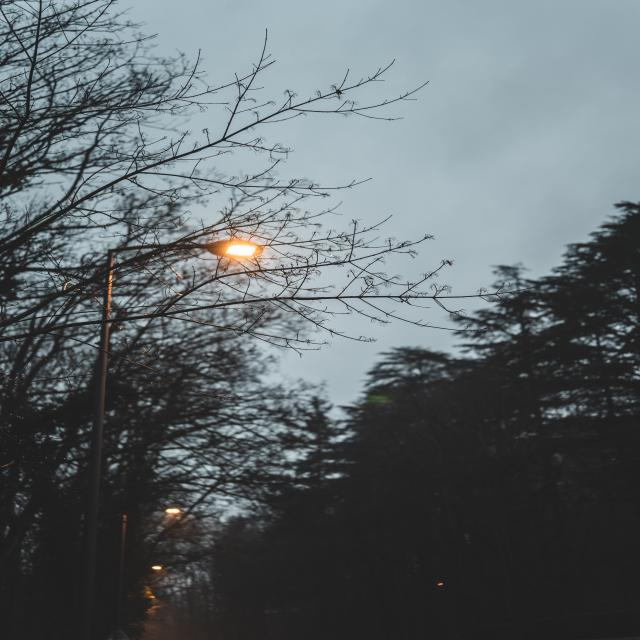Street Light: (102, 240, 262, 638), (119, 508, 182, 635), (142, 564, 160, 627)
